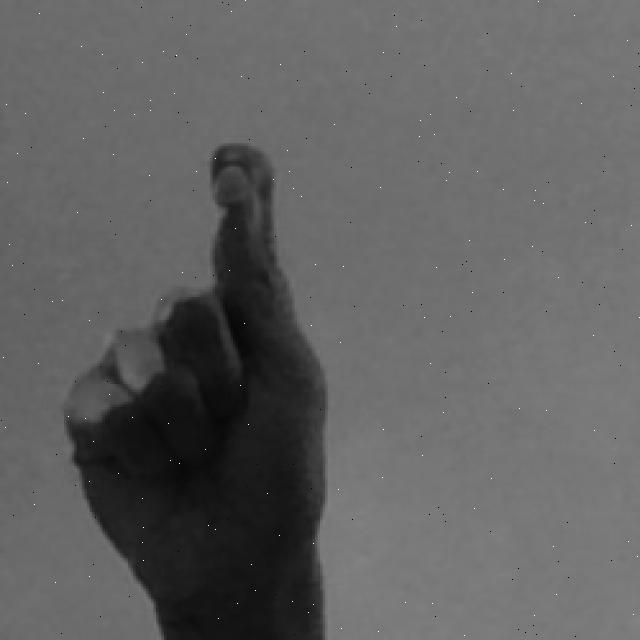T: (56, 135, 330, 640)
